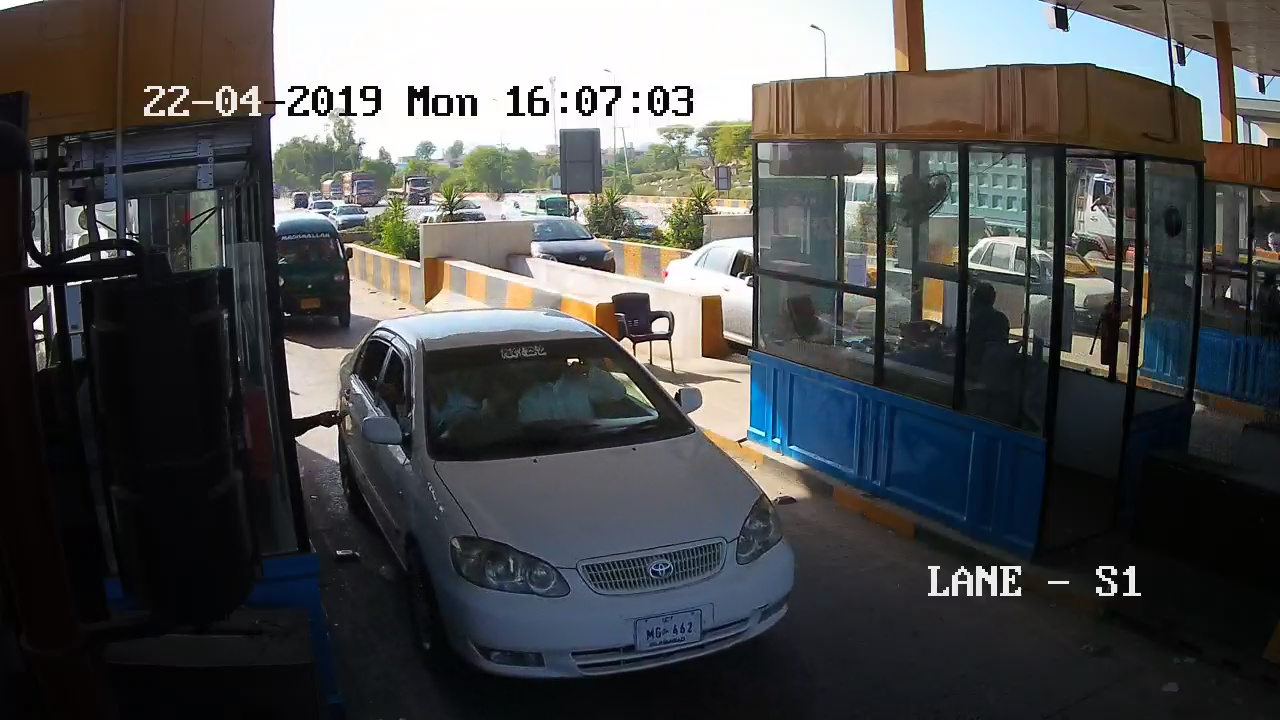Number Plate (Car): (629, 610, 708, 649), (296, 300, 323, 310)
